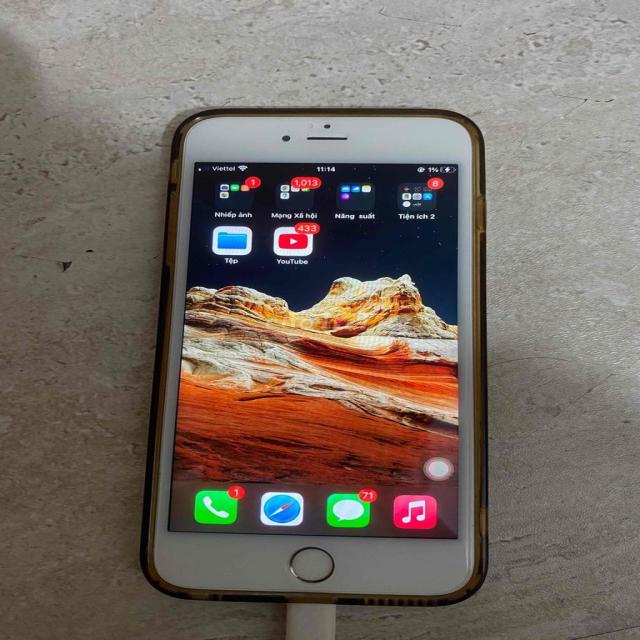gen_6: (142, 108, 487, 605)
